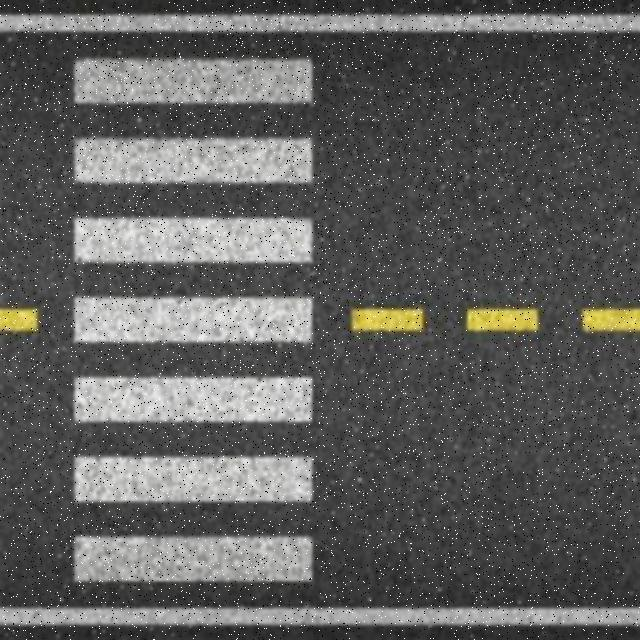Pedestrian crosswalk: (57, 34, 340, 608)
